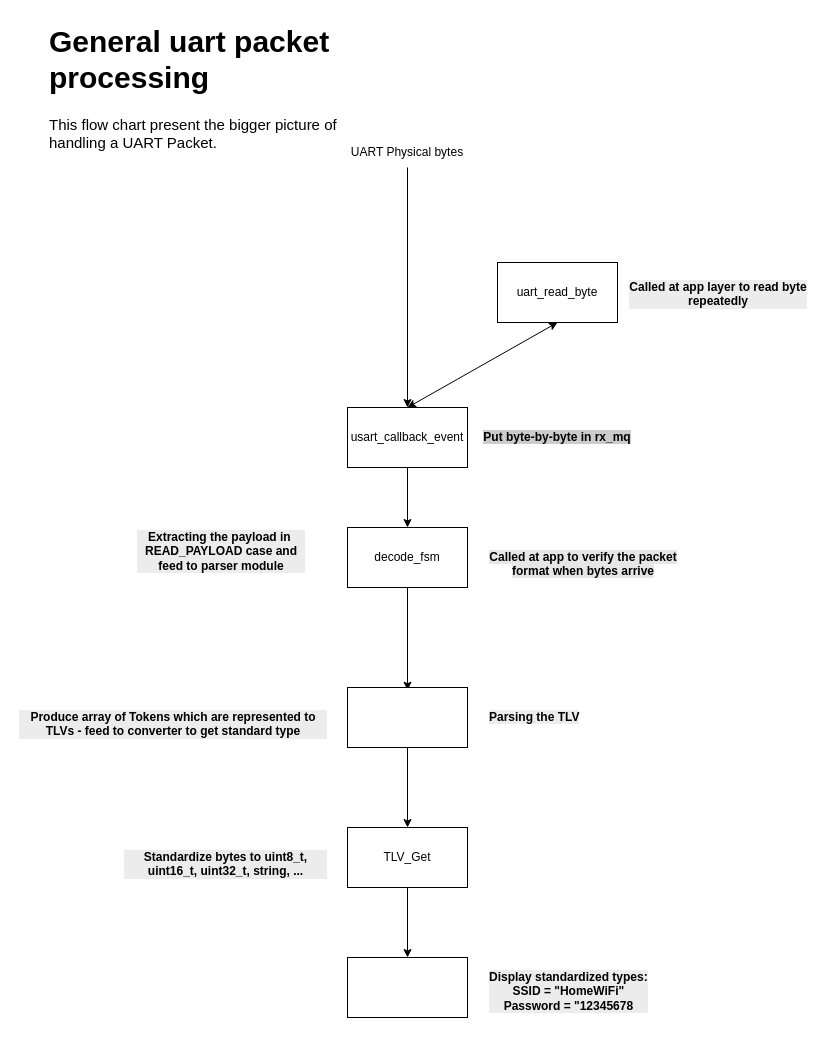
Some shapes in this 824 by 1046 pixel diagram are drawn without their labels. The centre of each missing label's shape, as x and y in pixels:
"Application" goes at pixel 407 987.
"payload_parser" goes at pixel 407 717.
